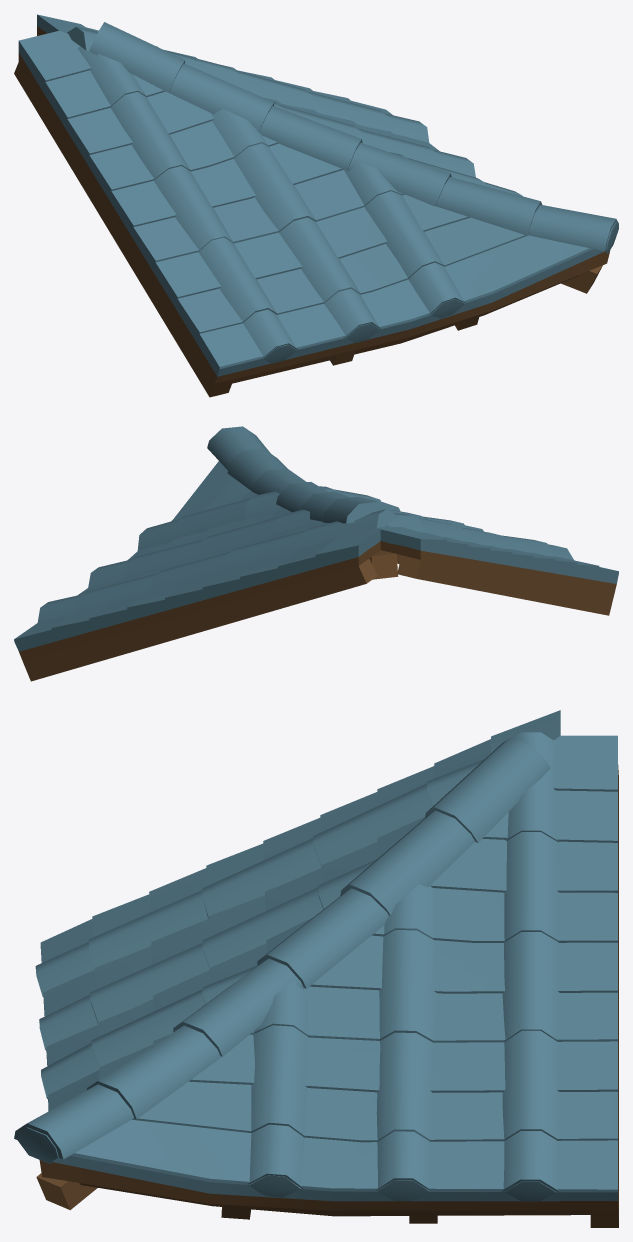
Rendered from BlueRoof_Corner.fbx.
3 views of the same model, one above another, from view 1: azimuth 30°, elevation 25°; view 2: azimuth 150°, elevation 25°; view 3: azimuth 270°, elevation 25° (orthographic). The views are drawn at different scales.
Parts seen in each view (by area): view 1: BlueRoof_Corner; view 2: BlueRoof_Corner; view 3: BlueRoof_Corner.
Boxes of the visible parts, left/top/right/bottom form: BlueRoof_Corner: left=14, top=14, right=618, bottom=397; BlueRoof_Corner: left=14, top=426, right=618, bottom=681; BlueRoof_Corner: left=14, top=710, right=618, bottom=1227.
Size of what is drawn, in the model's own units: 214 by 114 by 212.
